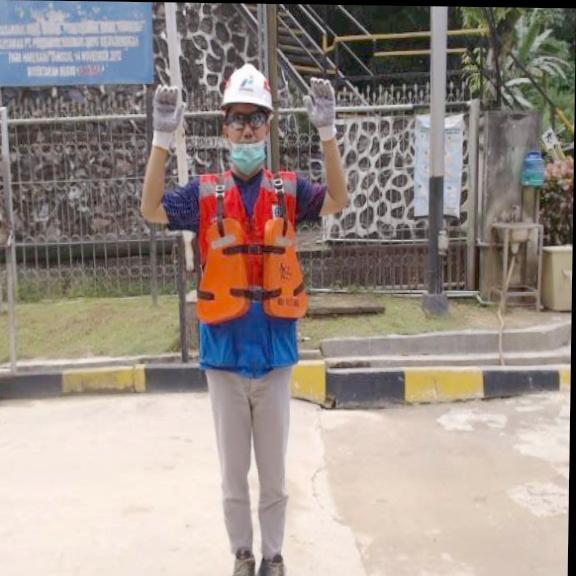safety_vest: (197, 218, 309, 324)
